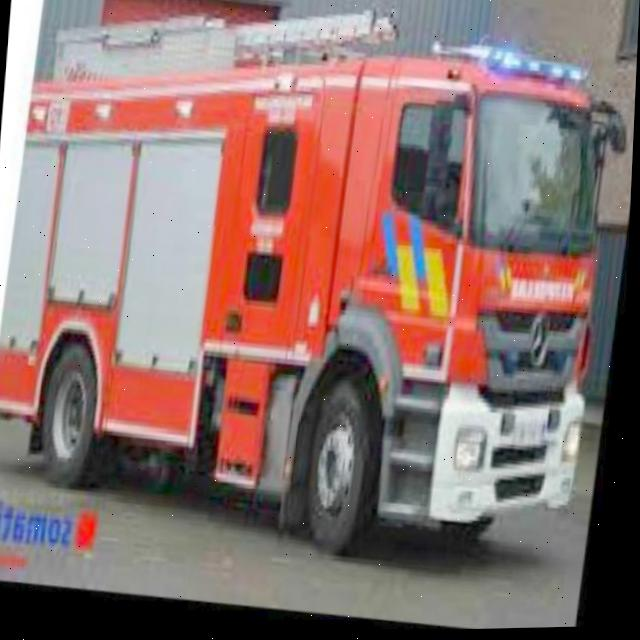emergency: (0, 0, 636, 572)
